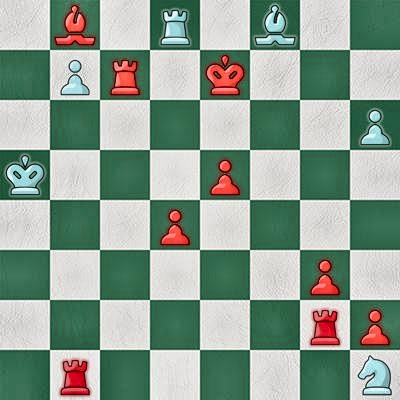black-bishop: (50, 0, 100, 50)
black-king: (200, 50, 250, 100)
black-pawn: (200, 150, 250, 200), (150, 200, 200, 250), (300, 250, 350, 300), (350, 300, 400, 350)
black-rook: (100, 50, 150, 100), (300, 300, 350, 350), (50, 350, 100, 400)
white-bishop: (250, 0, 300, 50)
white-king: (0, 150, 50, 200)
white-knight: (350, 350, 400, 400)
white-pawn: (50, 50, 100, 100), (350, 100, 400, 150)
white-rook: (150, 0, 200, 50)
